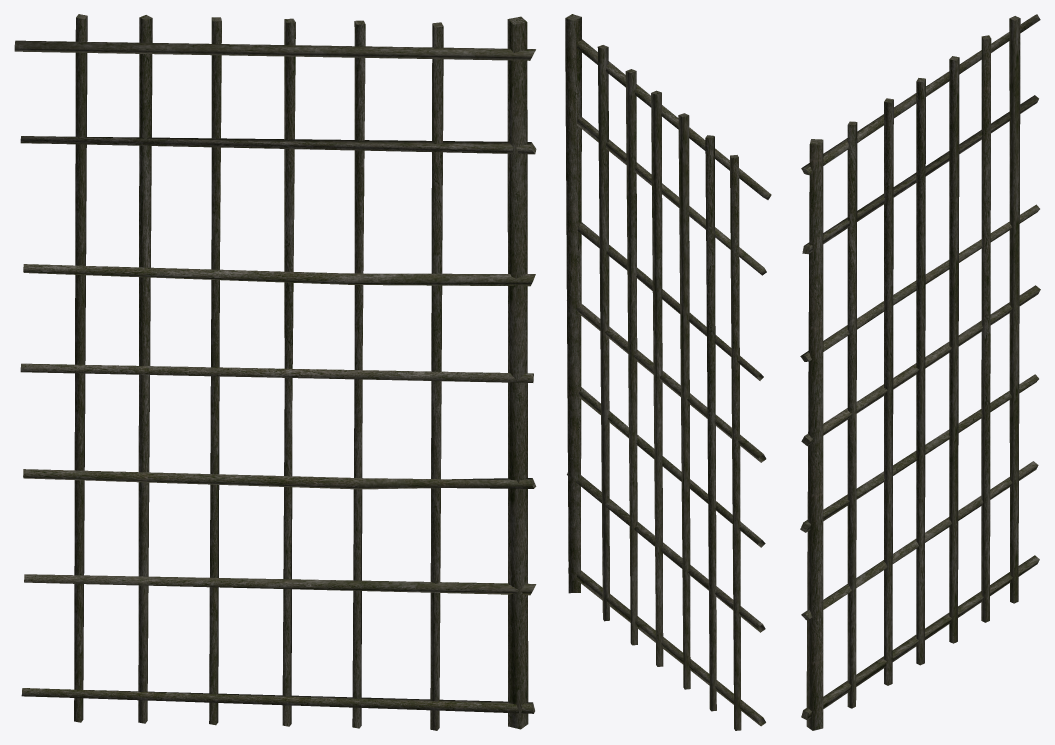
File: TI_Roof_Frame_04.fbx
3 views of the same model, side by side, from view 1: azimuth 30°, elevation 25°; view 2: azimuth 150°, elevation 25°; view 3: azimuth 270°, elevation 25° (orthographic). The views are drawn at different scales.
Visible parts, largest first — view 1: TI_Roof_Frame_04; view 2: TI_Roof_Frame_04; view 3: TI_Roof_Frame_04.
Boxes of the visible parts, x1=… form: TI_Roof_Frame_04: x1=14, y1=14, x2=536, y2=730; TI_Roof_Frame_04: x1=565, y1=14, x2=771, y2=730; TI_Roof_Frame_04: x1=800, y1=14, x2=1040, y2=730.
Size of the model in its own units: 5.66 by 9.9 by 3.66.
